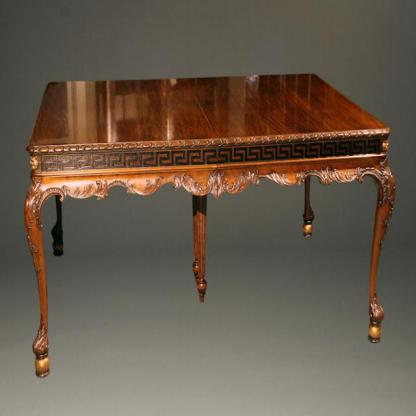Table: (0, 52, 406, 389)
